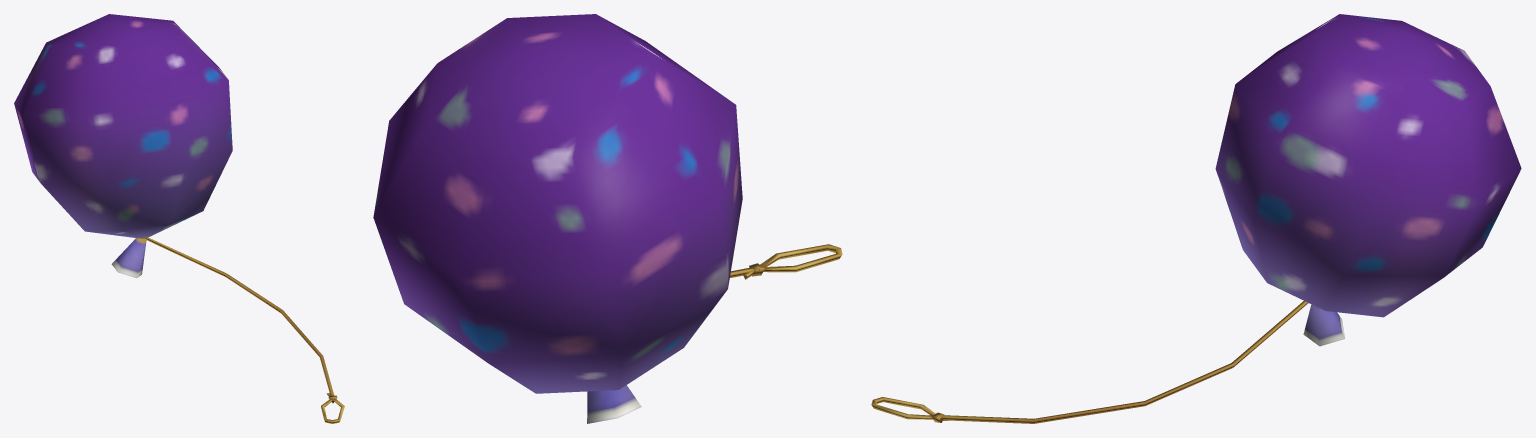
Rendered from jsf_WaterBalloon_18_e.fbx.
3 views of the same model, side by side, from view 1: azimuth 30°, elevation 25°; view 2: azimuth 150°, elevation 25°; view 3: azimuth 270°, elevation 25° (orthographic). The views are drawn at different scales.
Parts seen in each view (by area): view 1: jsf_WaterBalloon_18_e; view 2: jsf_WaterBalloon_18_e; view 3: jsf_WaterBalloon_18_e.
Boxes of the visible parts, x1,y1,x2,y2 form: jsf_WaterBalloon_18_e: [14, 14, 344, 423]; jsf_WaterBalloon_18_e: [373, 14, 842, 423]; jsf_WaterBalloon_18_e: [871, 14, 1521, 423].
Size of the model in its own units: 10.92 by 14.38 by 23.6.
